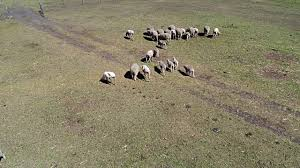sheep: (126, 61, 142, 80), (101, 70, 117, 83), (182, 62, 195, 78), (140, 63, 152, 78), (157, 60, 168, 72), (143, 47, 153, 60), (149, 29, 159, 41), (159, 31, 171, 41), (213, 25, 222, 38), (151, 42, 160, 55), (171, 55, 181, 65), (186, 25, 196, 35), (124, 27, 133, 38), (202, 24, 211, 35), (174, 26, 183, 37)
